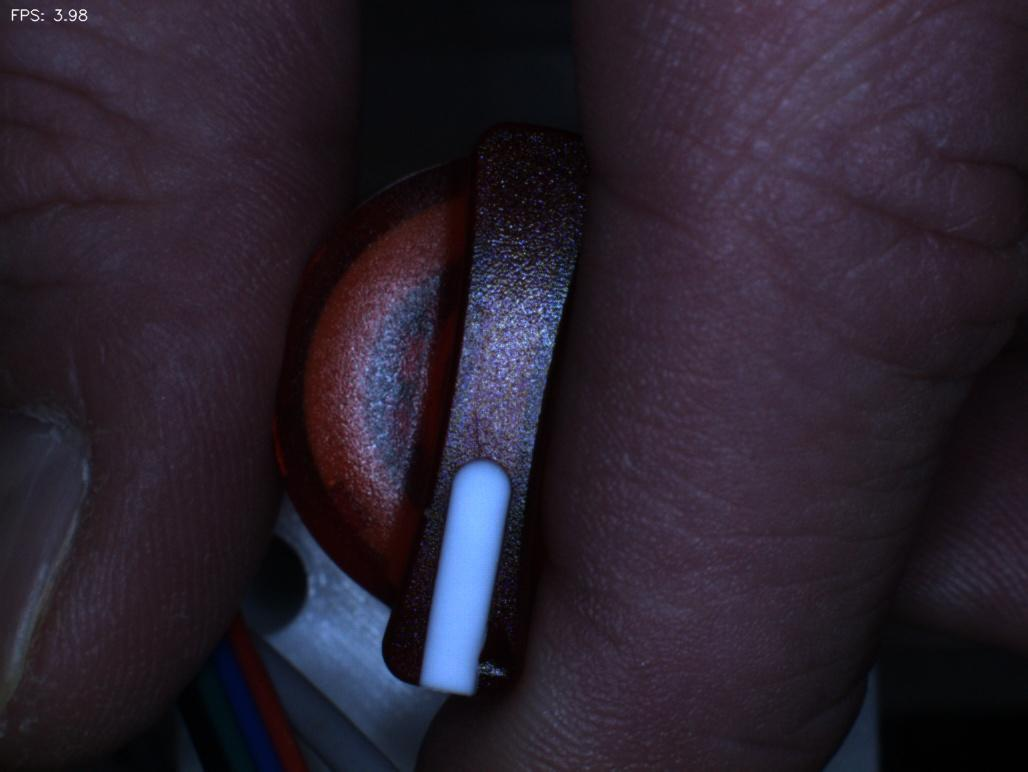Choc: (451, 603, 532, 696)
